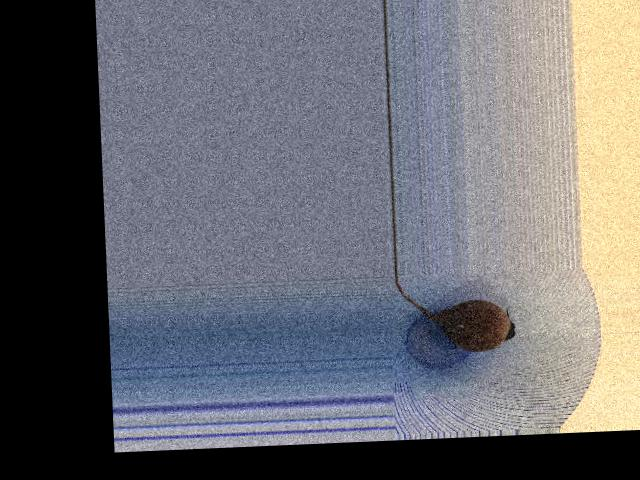beet: (395, 269, 517, 355)
